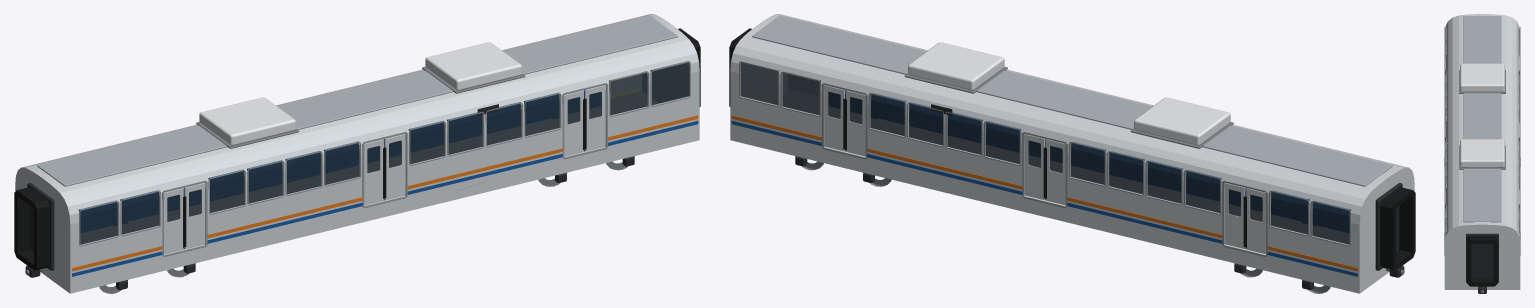
File: train_313_mid_lo.glb
3 renders of one model, left to right at view 1: azimuth 30°, elevation 25°; view 2: azimuth 150°, elevation 25°; view 3: azimuth 270°, elevation 25°, orthographic. The views are drawn at different scales.
Parts seen in each view (by area): view 1: Body, Parts_WindowGlass, Parts_Roof, Parts_Moquette, Parts_RoofWhite, DoorLeaf (×6), Parts_Floor, Parts_BodyTrim, Parts_Rubber, Parts_StripeOrange, Parts_StripeBlue, Parts_UnderDark (+1 smaller); view 2: Body, Parts_WindowGlass, Parts_Roof, Parts_Moquette, Parts_RoofWhite, DoorLeaf (×6), Parts_Floor, Parts_BodyTrim, Parts_Rubber, Parts_StripeOrange, Parts_StripeBlue, Parts_UnderDark (+1 smaller); view 3: Body, Parts_Roof, Parts_RoofWhite, Parts_UnderDark, Parts_Rubber, Parts_BodyTrim, Parts_WindowGlass, Parts_Steel.
Part boxes in pixels (left/top/right/bottom): Body: left=15, top=14, right=699, bottom=293; Parts_WindowGlass: left=79, top=62, right=689, bottom=244; Parts_Roof: left=37, top=16, right=677, bottom=186; Parts_Moquette: left=78, top=90, right=600, bottom=248; Parts_RoofWhite: left=199, top=42, right=521, bottom=145; DoorLeaf (×6): left=164, top=85, right=605, bottom=253; Parts_Floor: left=80, top=90, right=657, bottom=249; Parts_BodyTrim: left=79, top=61, right=690, bottom=257; Parts_Rubber: left=14, top=28, right=700, bottom=270; Parts_StripeOrange: left=72, top=115, right=698, bottom=271; Parts_StripeBlue: left=72, top=121, right=698, bottom=276; Parts_UnderDark: left=25, top=104, right=498, bottom=277; Body: left=730, top=14, right=1414, bottom=293; Parts_WindowGlass: left=740, top=62, right=1350, bottom=244; Parts_Roof: left=752, top=16, right=1392, bottom=186; Parts_Moquette: left=829, top=90, right=1351, bottom=248; Parts_RoofWhite: left=908, top=42, right=1230, bottom=145; DoorLeaf (×6): left=824, top=85, right=1265, bottom=253; Parts_Floor: left=772, top=90, right=1349, bottom=249; Parts_BodyTrim: left=739, top=61, right=1350, bottom=257; Parts_Rubber: left=729, top=28, right=1415, bottom=270; Parts_StripeOrange: left=731, top=115, right=1357, bottom=271; Parts_StripeBlue: left=731, top=121, right=1357, bottom=276; Parts_UnderDark: left=931, top=104, right=1404, bottom=277; Body: left=1444, top=14, right=1520, bottom=289; Parts_Roof: left=1463, top=16, right=1501, bottom=222; Parts_RoofWhite: left=1460, top=63, right=1504, bottom=167; Parts_UnderDark: left=1444, top=157, right=1520, bottom=293; Parts_Rubber: left=1467, top=235, right=1497, bottom=286; Parts_BodyTrim: left=1444, top=27, right=1520, bottom=255; Parts_WindowGlass: left=1445, top=27, right=1519, bottom=232; Parts_Steel: left=1459, top=70, right=1505, bottom=293.
Size of the model in its own units: 20.56 by 4.02 by 2.97.
14 materials, 3 textured.
